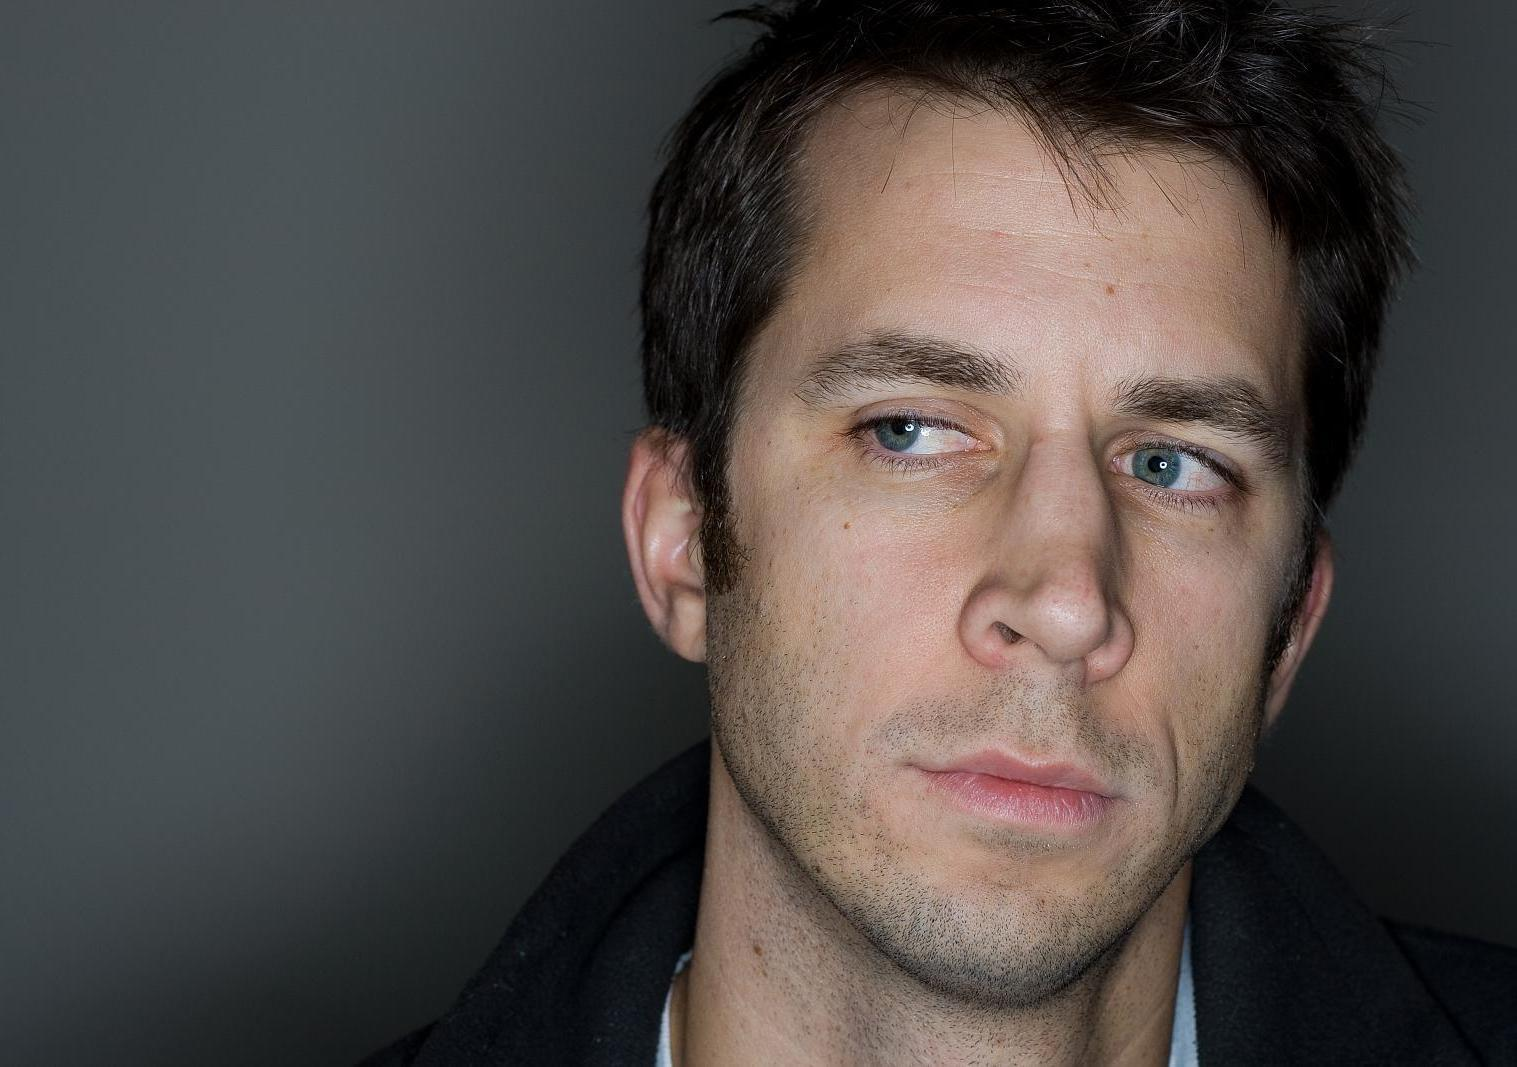Eyebags: (840, 441, 1002, 515), (1113, 479, 1242, 546)
